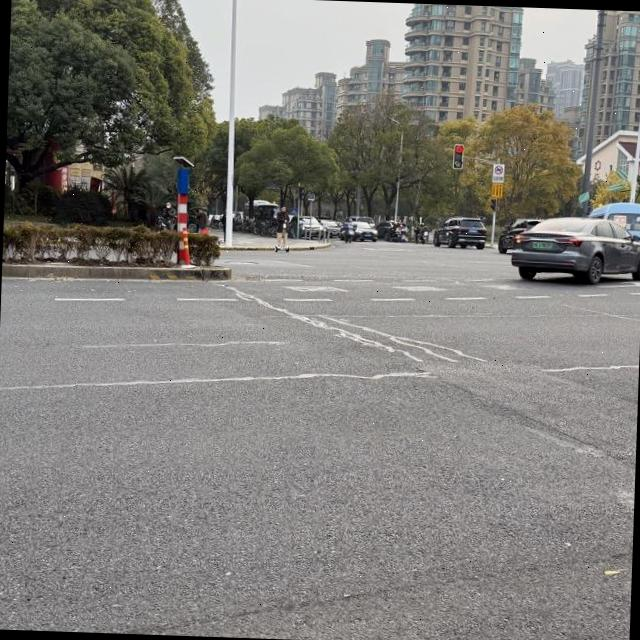curb: (1, 264, 230, 279), (220, 245, 274, 251), (290, 244, 331, 250)
